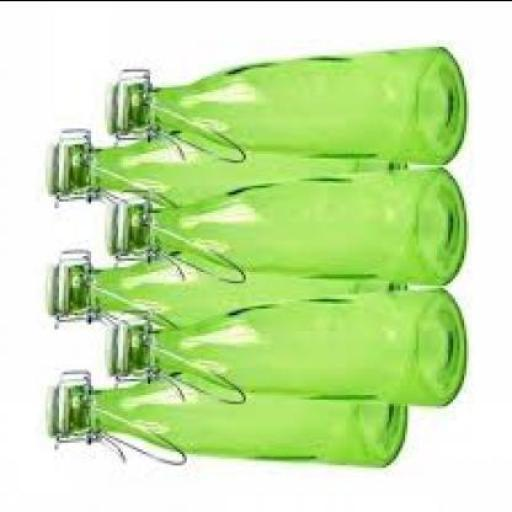glass: (110, 48, 464, 166), (110, 168, 462, 286), (123, 292, 462, 407), (66, 373, 403, 466), (62, 133, 408, 205), (64, 259, 407, 331)
